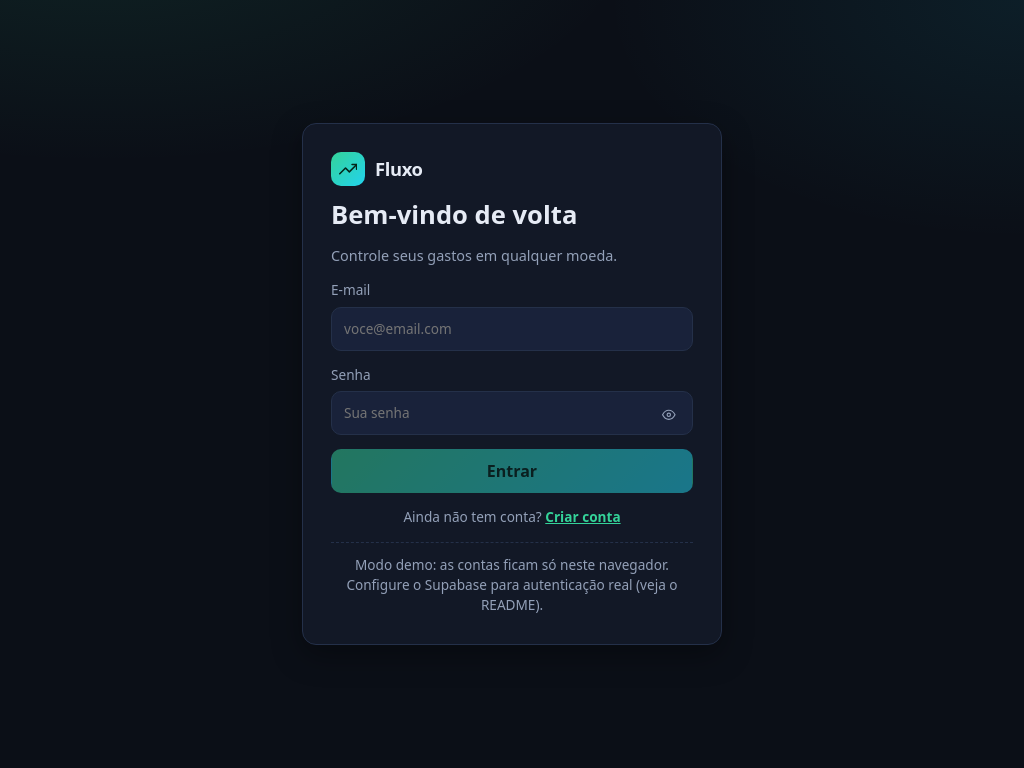
Test: Login › mantém o botão desabilitado até o e-mail e a senha serem válidos
Check: the button "Entrar" is disabled, box [331,449,693,493]
Type "invalido" into the field with test id "email-input". click: (512, 329)
box: [331,307,693,351]
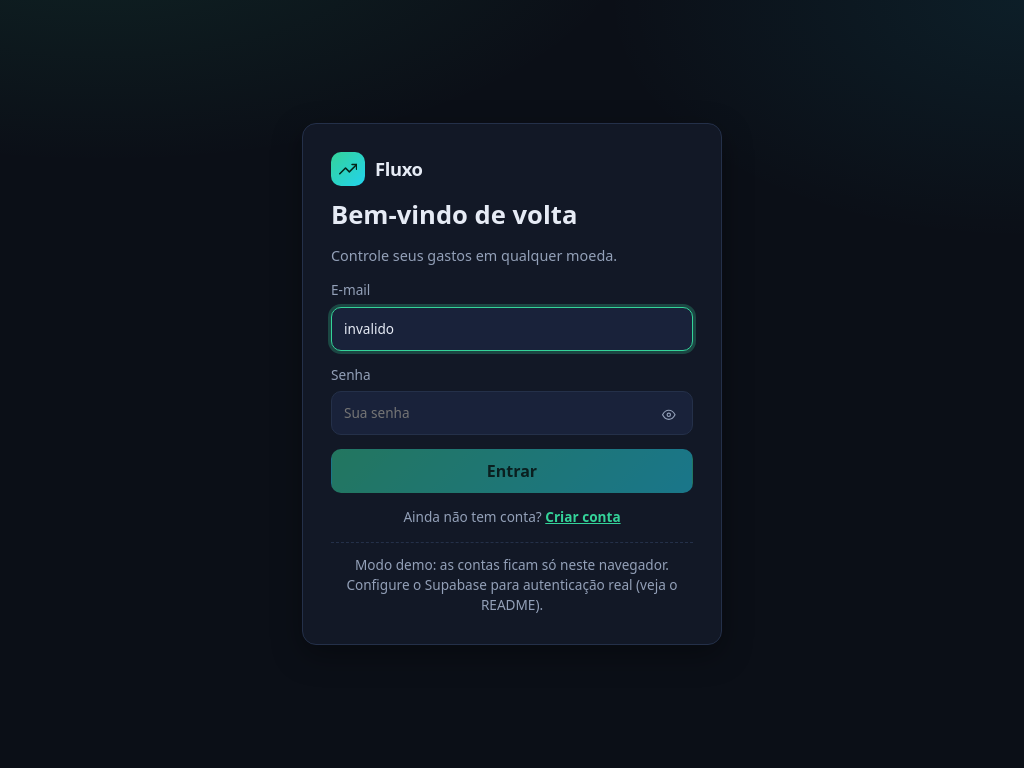
Type "123456" into the password field with test id "password-input". click: (512, 413)
box: [331,391,693,435]
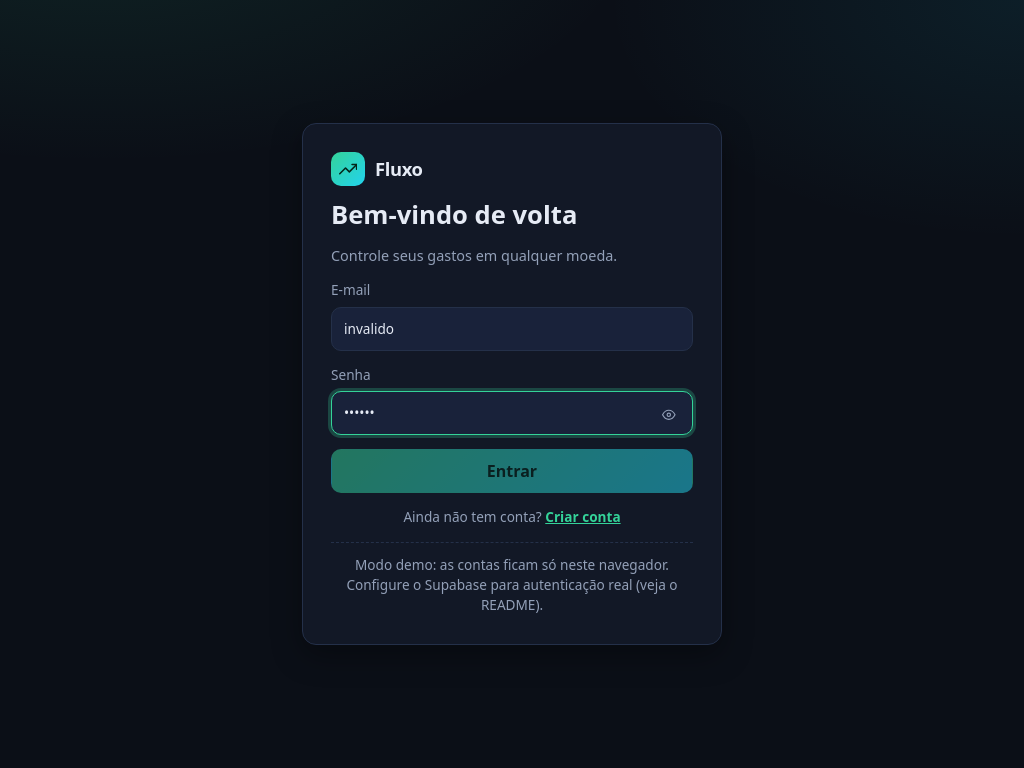
Check: the button "Entrar" is disabled, box [331,449,693,493]
Replace the text in the field with test id "email-input" with "teste@teste.com". click: (512, 329)
box: [331,307,693,351]
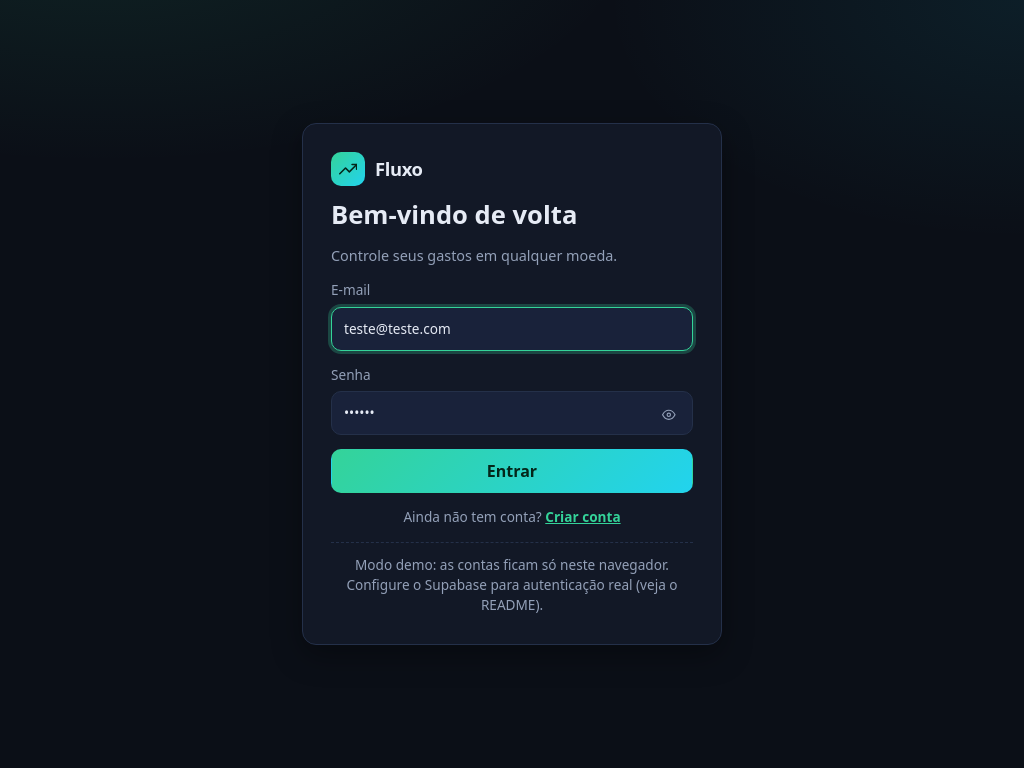
Check: the button "Entrar" is enabled, box [331,449,693,493]
